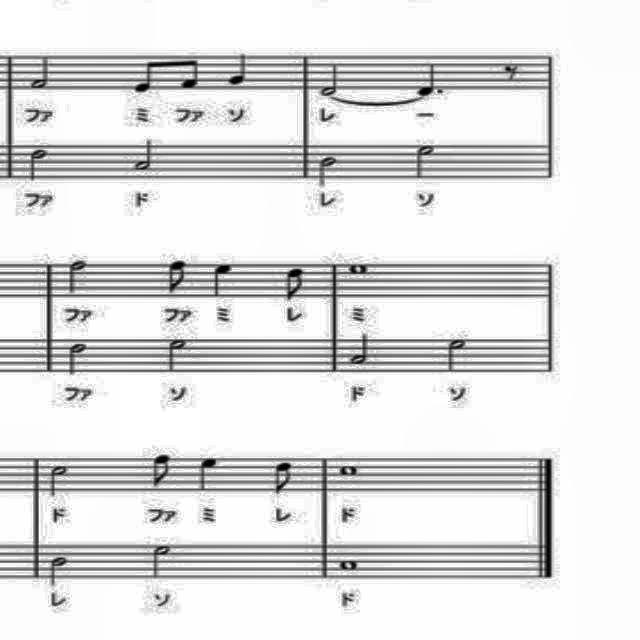Eighth-note: (130, 52, 168, 104), (169, 45, 205, 97), (271, 458, 303, 502), (147, 448, 177, 494), (158, 258, 194, 296), (280, 262, 310, 306)
Eighth-rest: (499, 62, 525, 86)
Full-note: (343, 255, 372, 282), (335, 462, 361, 478), (336, 556, 362, 572)
Half-note: (61, 335, 93, 381), (142, 545, 178, 583), (62, 256, 90, 304), (440, 335, 472, 377), (28, 52, 58, 96), (410, 140, 438, 184), (128, 140, 164, 174), (315, 60, 345, 100), (45, 464, 75, 504), (316, 148, 342, 192), (24, 144, 52, 182), (164, 338, 192, 376), (47, 550, 71, 590), (345, 333, 371, 367)
Quarter-dot: (416, 60, 448, 100)
Quarter-note: (219, 48, 253, 92), (206, 256, 238, 302), (194, 454, 222, 498)
